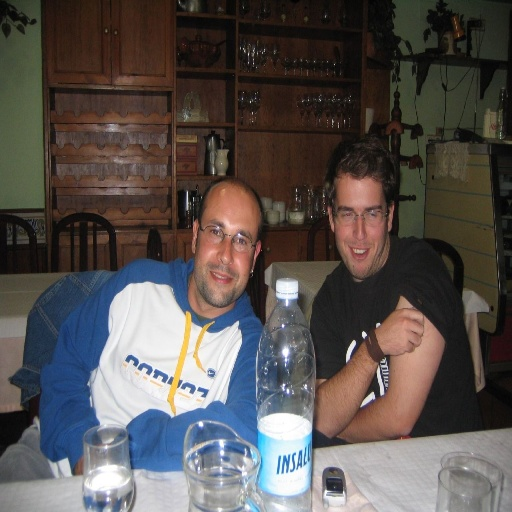hand: (374, 304, 426, 355), (72, 442, 108, 475)
